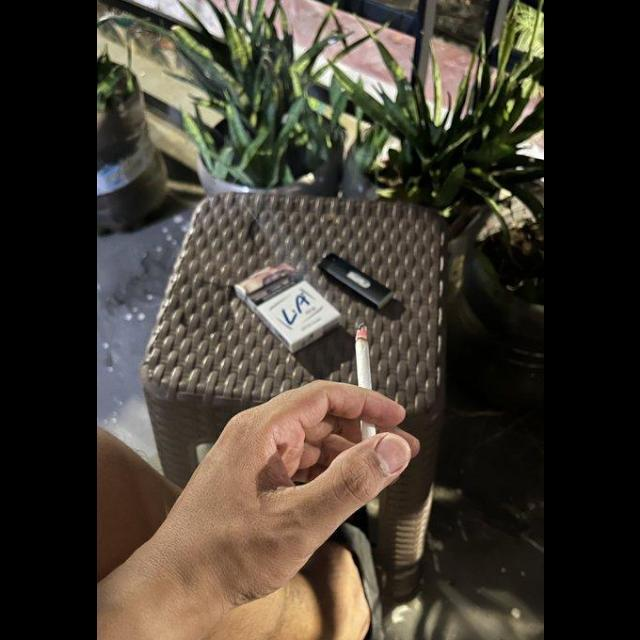rokok: (349, 319, 383, 446)
